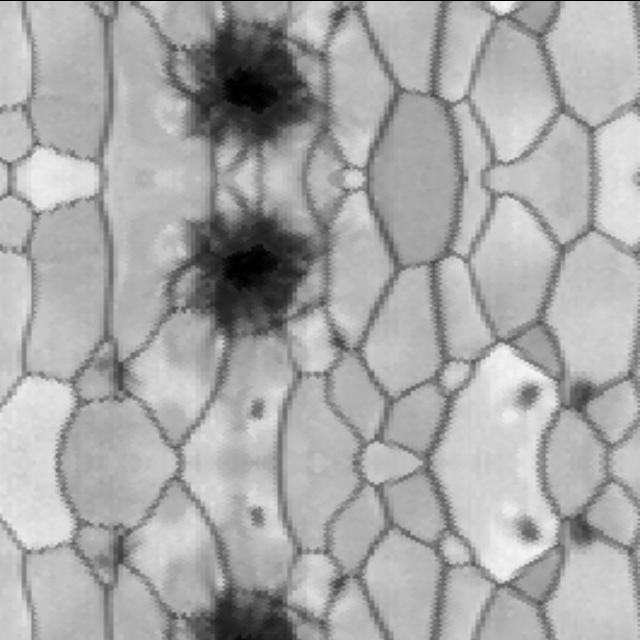good_void: (164, 193, 332, 354), (164, 2, 332, 163), (172, 586, 321, 640), (81, 337, 163, 413), (81, 513, 163, 589), (554, 365, 613, 424), (554, 502, 613, 561), (500, 369, 550, 419), (500, 507, 550, 557), (318, 325, 361, 362), (318, 564, 361, 601), (246, 393, 275, 431), (246, 495, 275, 533)
